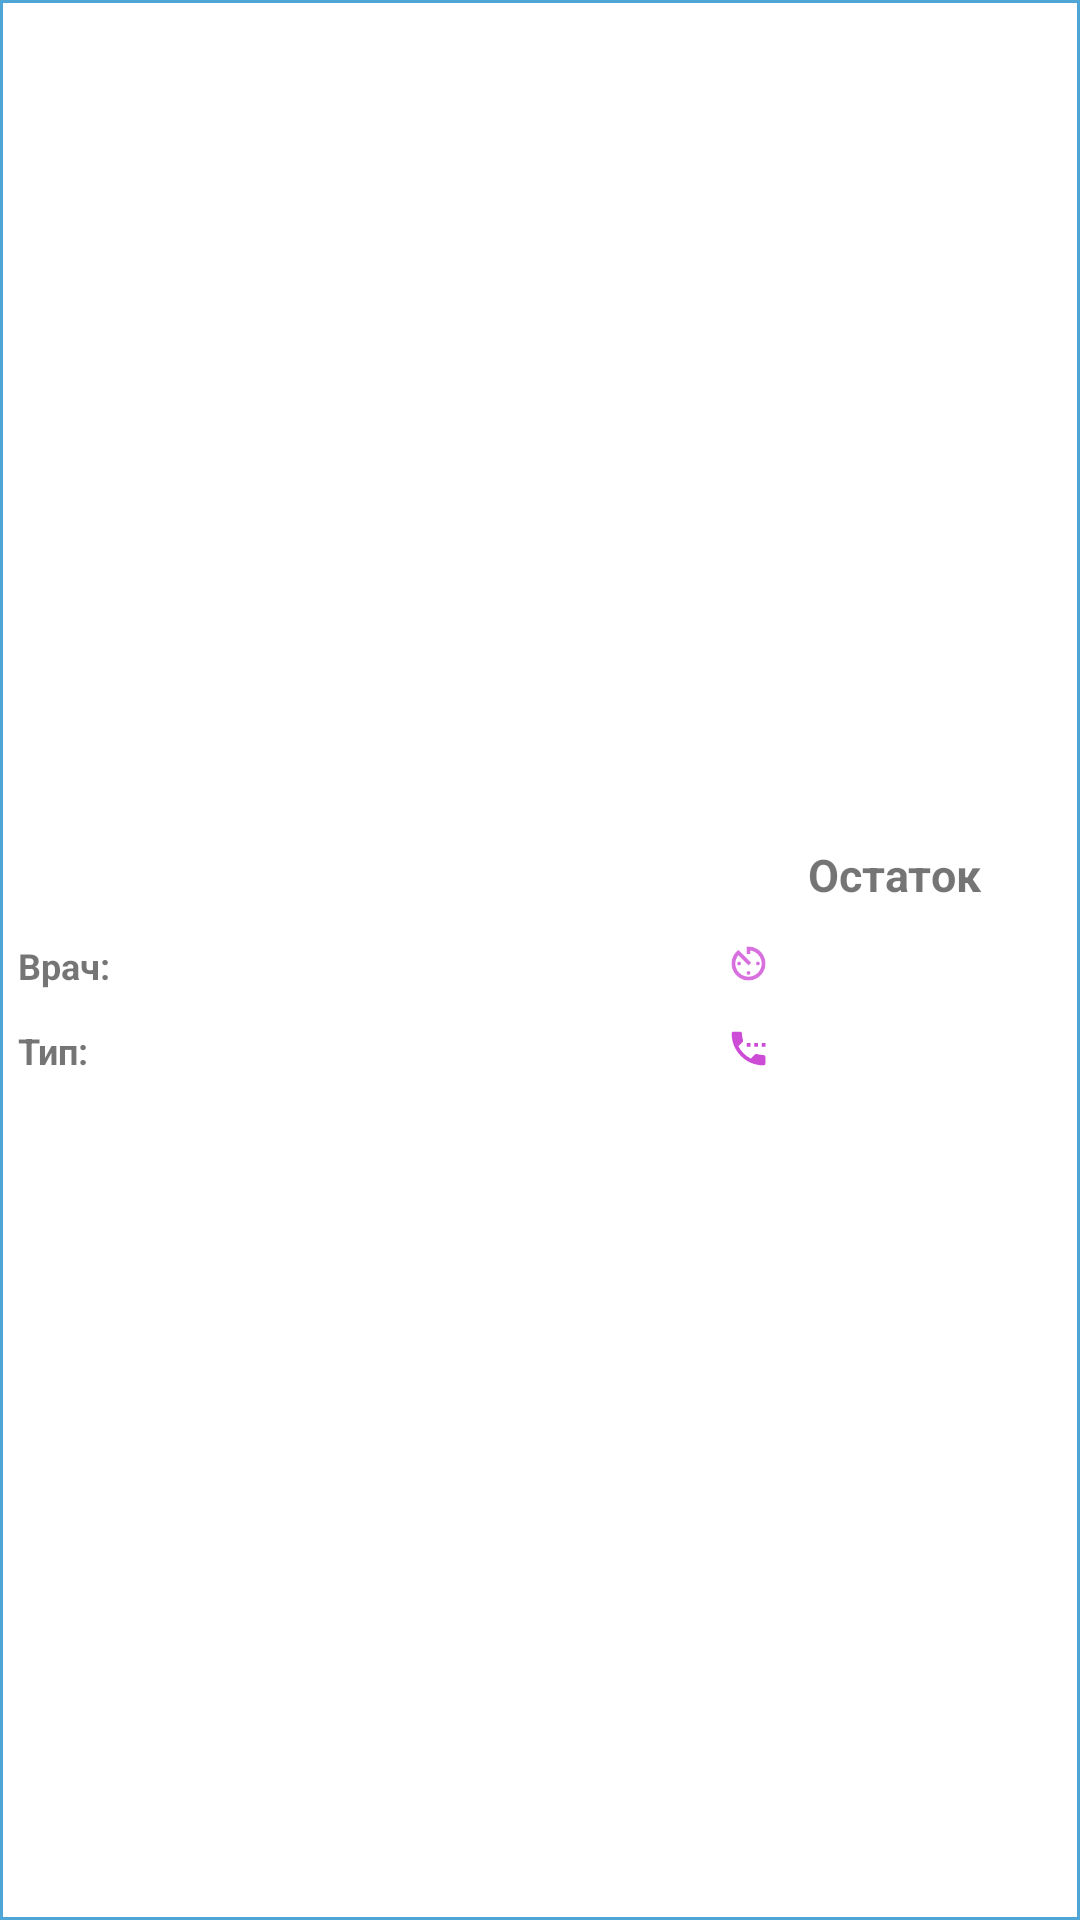

Point at icon controls on the screen. Image size 1080x1920, points as (x,y).
subscription consultation: (748,1048)
subscription time remaining: (748,963)
